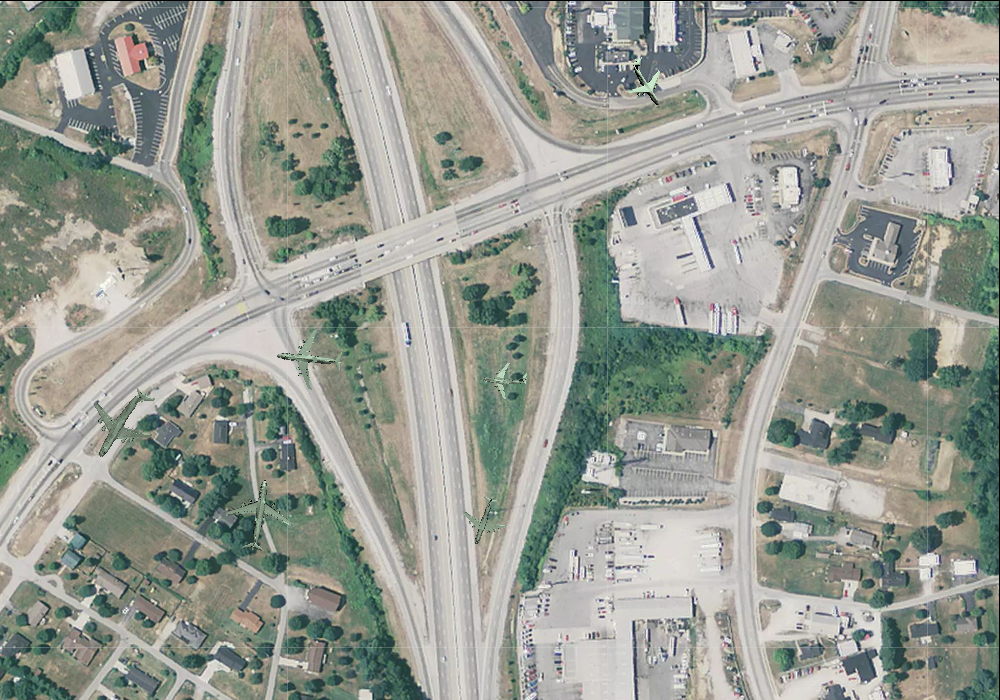plane: (70, 370, 175, 477), (219, 474, 297, 556), (273, 325, 345, 392), (613, 48, 679, 115), (453, 490, 513, 552), (479, 355, 529, 402)
